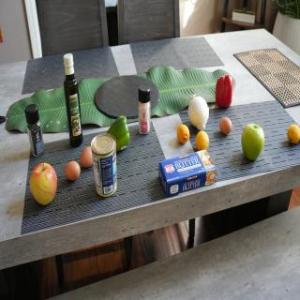bell_pepper: (104, 116, 132, 152), (215, 76, 234, 106)
egg: (66, 159, 81, 181), (218, 115, 234, 135), (81, 146, 95, 168)
onion: (186, 94, 210, 132)
